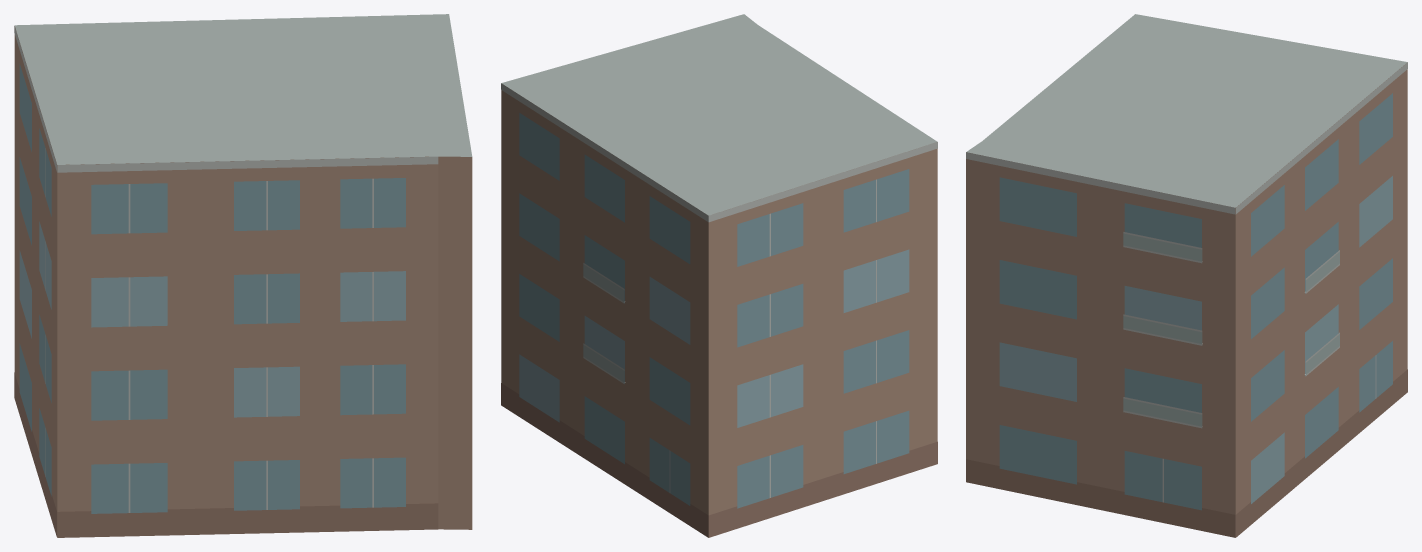
The model's file is survey-upis-32679209.glb.
3 views of the same model, side by side, from view 1: azimuth 30°, elevation 25°; view 2: azimuth 150°, elevation 25°; view 3: azimuth 270°, elevation 25° (orthographic). The views are drawn at different scales.
Visible parts, largest first — view 1: survey-upis-32679209.tmp; view 2: survey-upis-32679209.tmp; view 3: survey-upis-32679209.tmp.
Boxes of the visible parts, x1,y1,x2,y2 form: survey-upis-32679209.tmp: [14, 14, 472, 537]; survey-upis-32679209.tmp: [501, 14, 937, 537]; survey-upis-32679209.tmp: [966, 14, 1407, 537].
Bounding box in the file's own units: 14.8 × 11.75 × 14.25.
